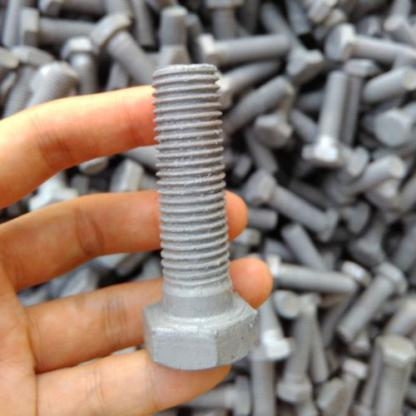FOD: (134, 61, 265, 374)
